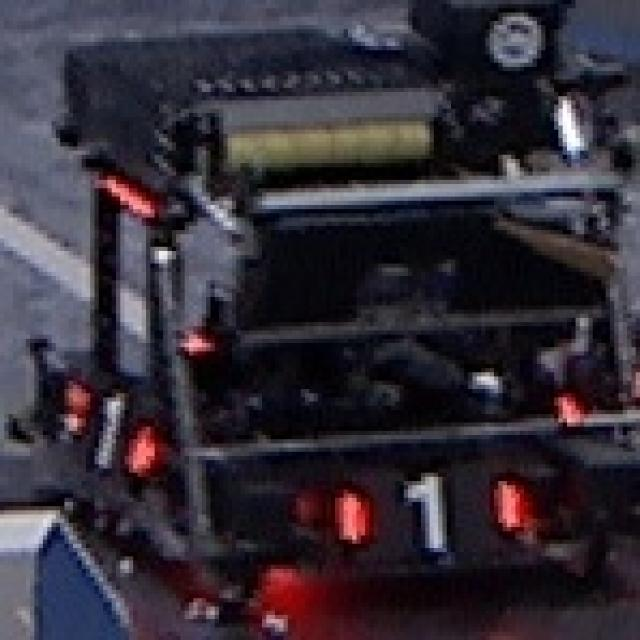R1: (335, 464, 524, 544), (60, 376, 159, 486)
